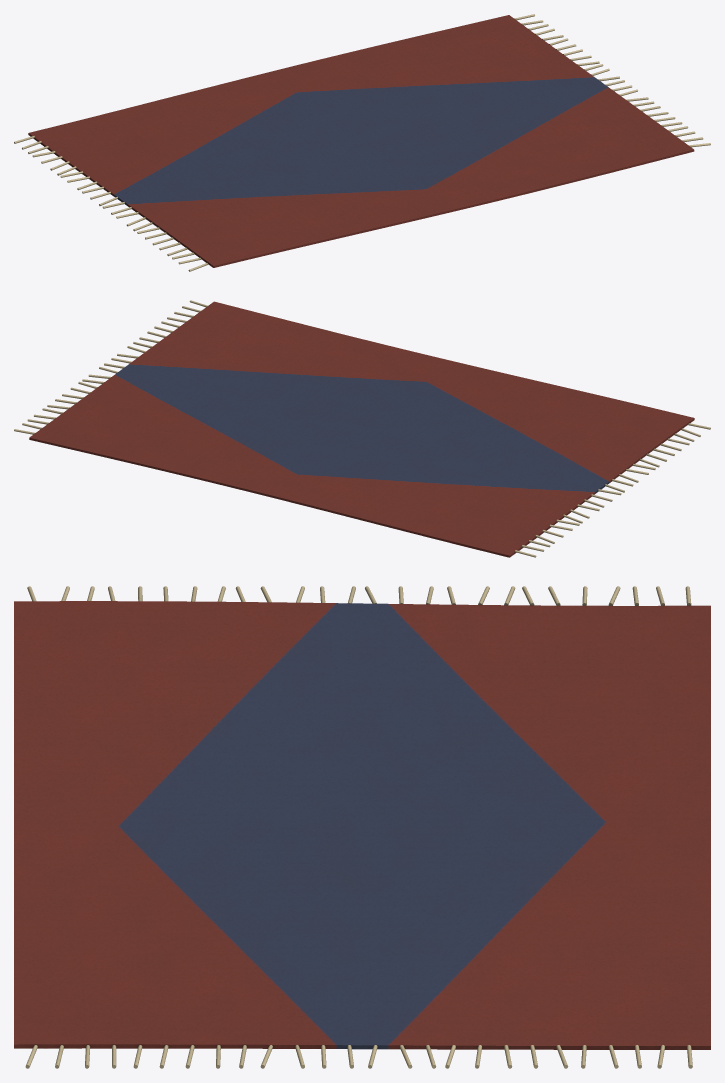
The model's file is movel_tapete.glb.
3 views of the same model, one above another, from view 1: azimuth 30°, elevation 25°; view 2: azimuth 150°, elevation 25°; view 3: azimuth 270°, elevation 25° (orthographic). The views are drawn at different scales.
Visible parts, largest first — view 1: movel_tapete; view 2: movel_tapete; view 3: movel_tapete.
Boxes of the visible parts, x1,y1,x2,y2 form: movel_tapete: (14, 14, 710, 271); movel_tapete: (14, 300, 710, 557); movel_tapete: (14, 586, 710, 1068).
Size of the model in its own units: 2.6 by 0.022 by 1.6.
1 material, 1 textured.
